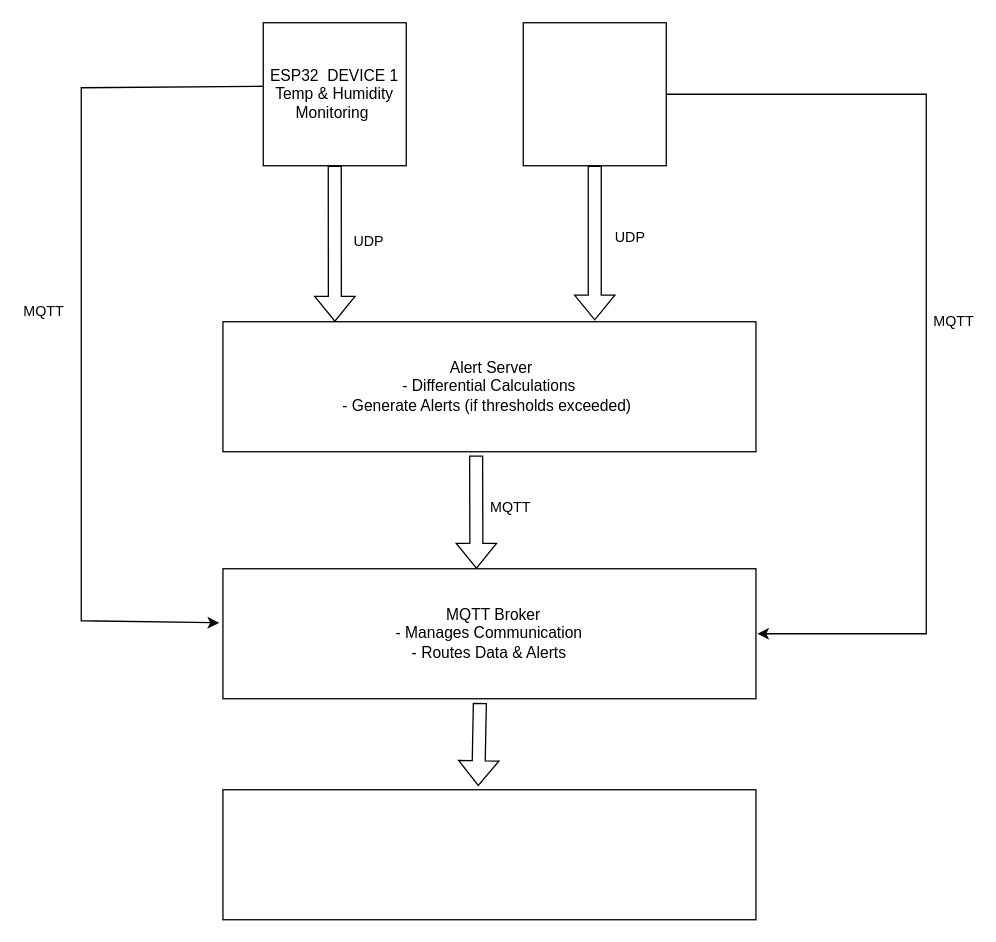
Some shapes in this 996 by 942 pixel diagram are drawn without their labels. The shapes that lost their labels are listed below. From the top down, each one's centre as x and y in pixels, then its label:
At point (594, 93): "ESP32 DEVICE 2 Temp & Humidity Monitoring".
At point (489, 854): "Node - RED Command Center - Real - time Data Monitoring - Display Alerts".
